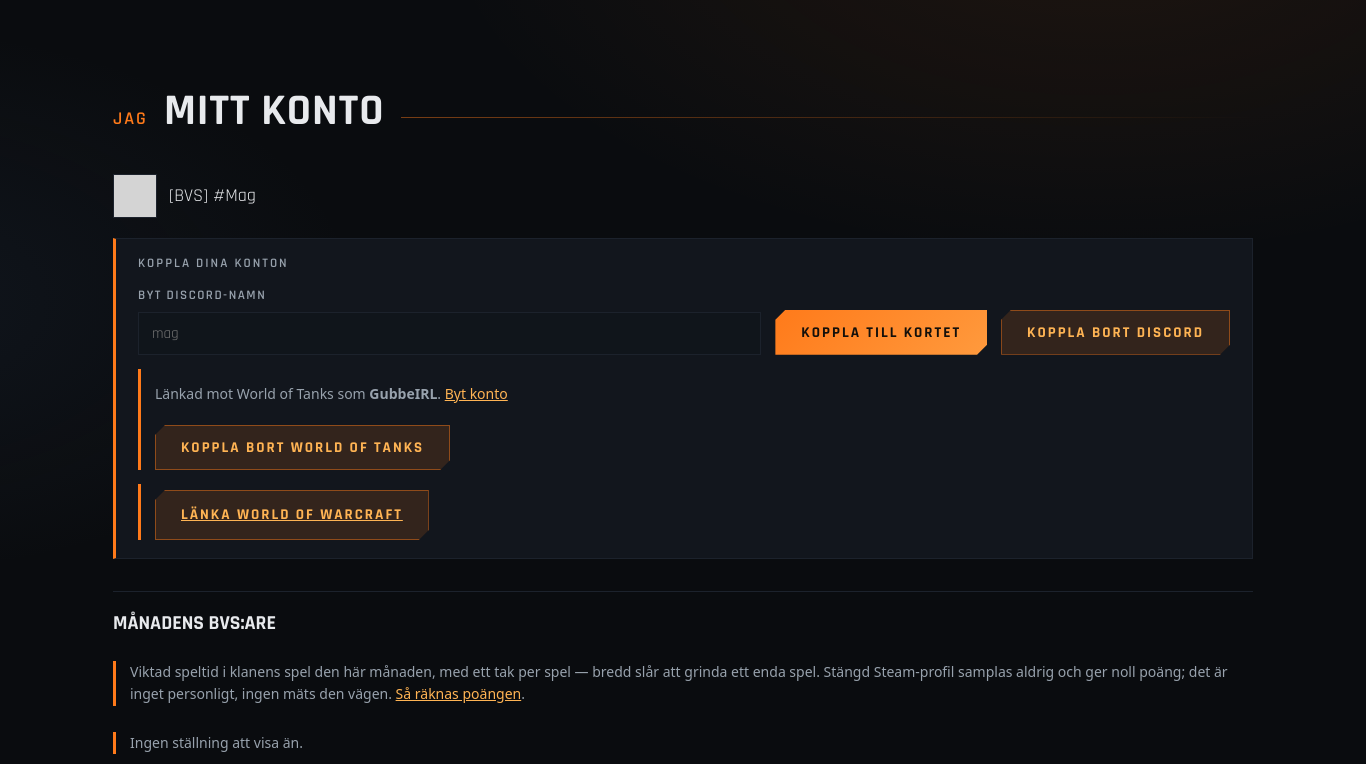
Test: unlinking a World of Tanks account › refreshes so the invite to link comes back once unlinked
Click the button "Koppla bort World of Tanks": (303, 448) [155,425,450,470]
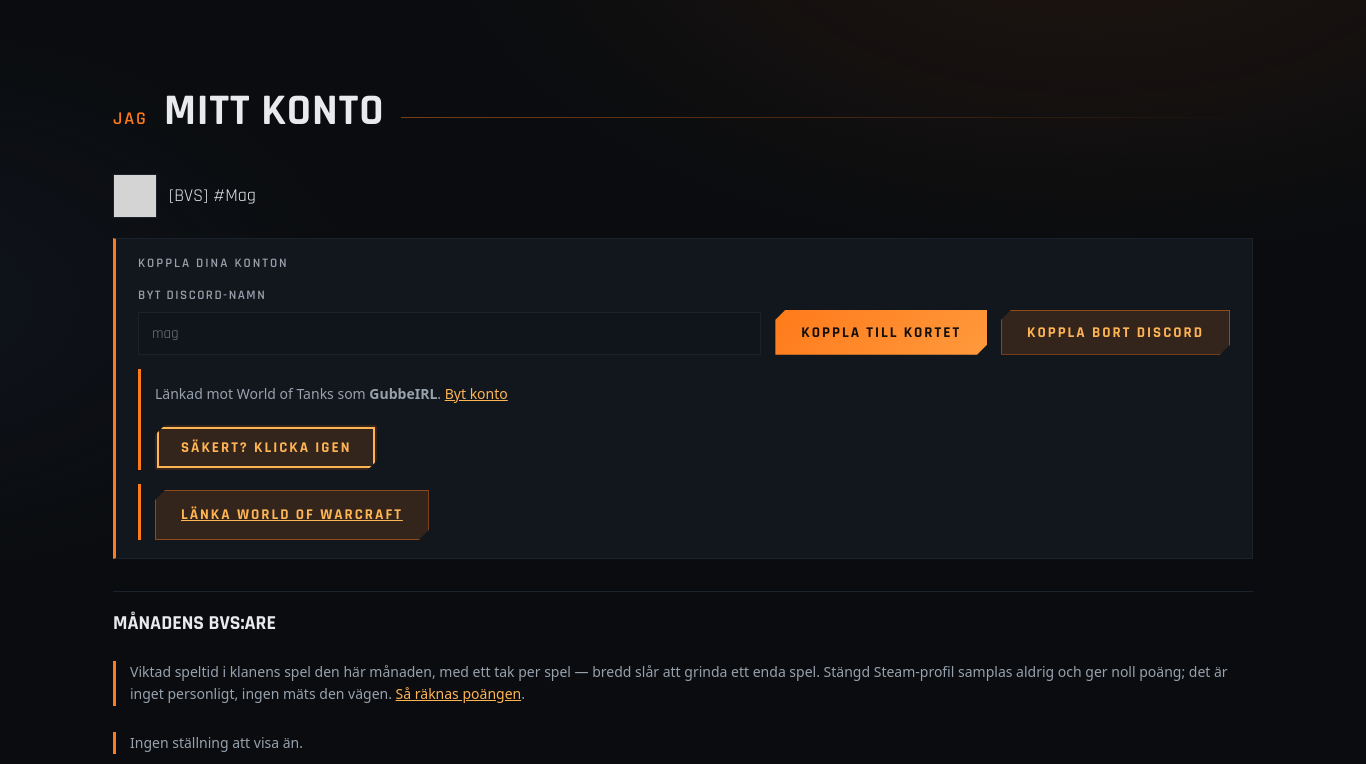
Click the button named "Koppla bort World of Tanks": (266, 448) [155,425,378,470]
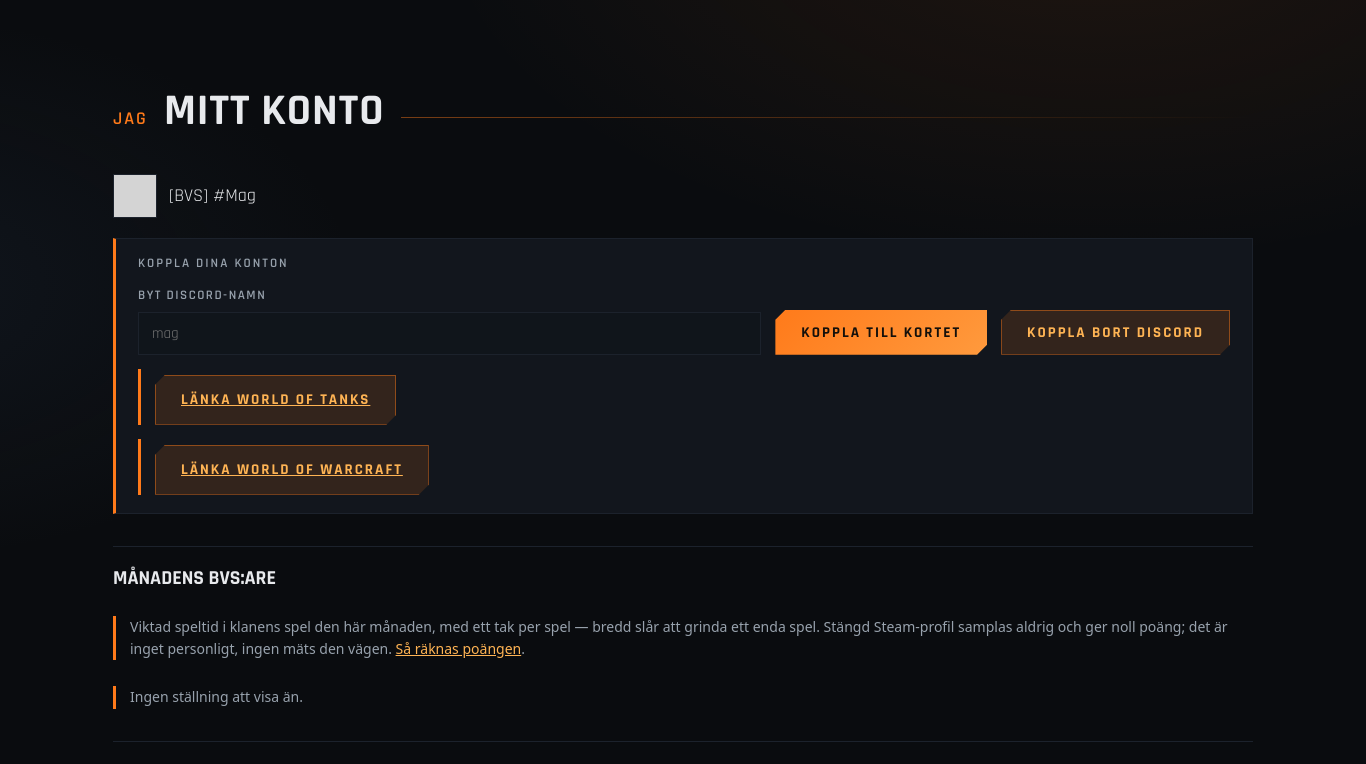
Expected: the link "Länka World of Tanks" is shown, [155,375,396,425]
